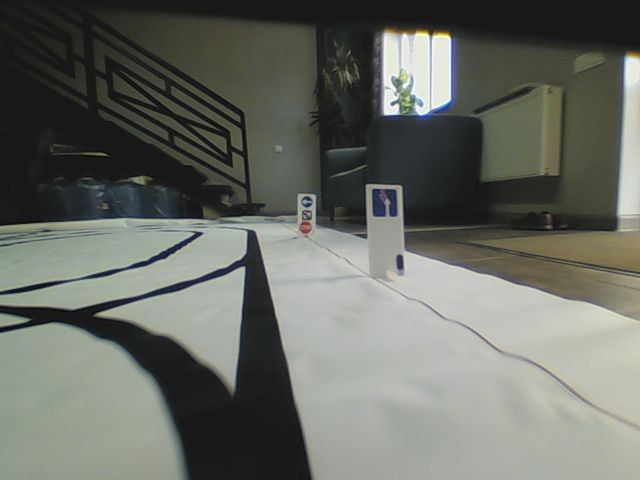priority_movement: (371, 187, 399, 219)
